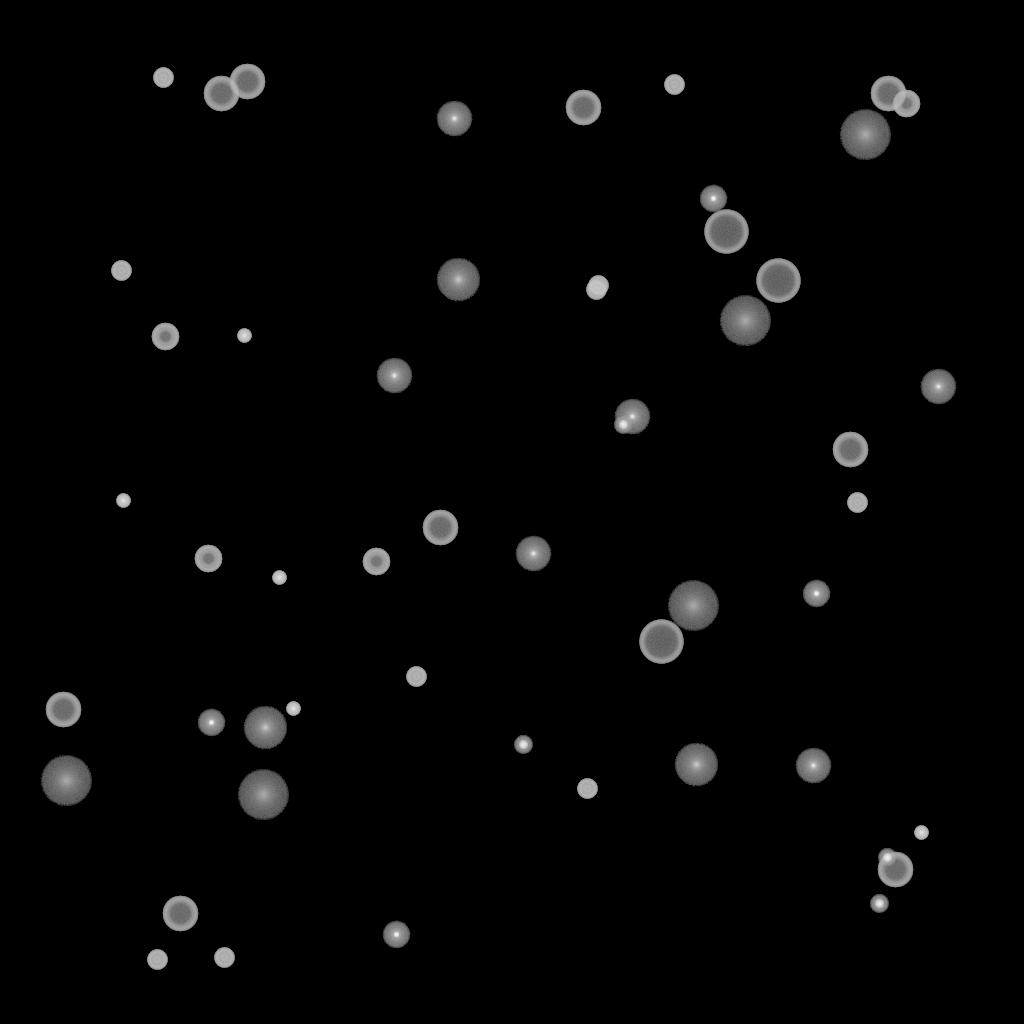depth:-10: (382, 921, 410, 949), (197, 709, 225, 737), (699, 185, 727, 213), (802, 580, 830, 608)
depth:-20: (870, 895, 888, 913), (514, 736, 532, 754), (878, 849, 896, 867), (614, 416, 632, 434)
depth:-30: (116, 494, 130, 508), (272, 571, 286, 585), (914, 826, 928, 840), (237, 329, 251, 343), (286, 702, 300, 716)
depth:-40: (577, 779, 597, 799), (588, 276, 608, 296), (111, 261, 131, 281), (664, 75, 684, 95), (147, 950, 167, 970), (214, 948, 234, 968), (153, 68, 173, 88), (847, 493, 867, 513), (406, 667, 426, 687), (586, 280, 606, 300)
depth:-50: (362, 548, 390, 576), (194, 545, 222, 573), (151, 323, 179, 351), (892, 90, 920, 118)
depth:-60: (565, 90, 601, 126), (422, 510, 458, 546), (877, 852, 913, 888), (229, 64, 265, 100), (870, 76, 906, 112), (45, 692, 81, 728), (832, 432, 868, 468), (162, 896, 198, 932), (203, 76, 239, 112)
depth:-70: (756, 259, 800, 303), (639, 620, 683, 664), (704, 210, 748, 254)
depth:0: (515, 536, 551, 572), (436, 101, 472, 137), (614, 399, 650, 435), (920, 369, 956, 405), (376, 358, 412, 394), (795, 748, 831, 784)
depth:10: (243, 706, 287, 750), (436, 258, 480, 302), (674, 743, 718, 787)
depth:20: (719, 296, 771, 346), (40, 756, 92, 806), (667, 581, 719, 631), (237, 770, 289, 820), (839, 110, 891, 160)
